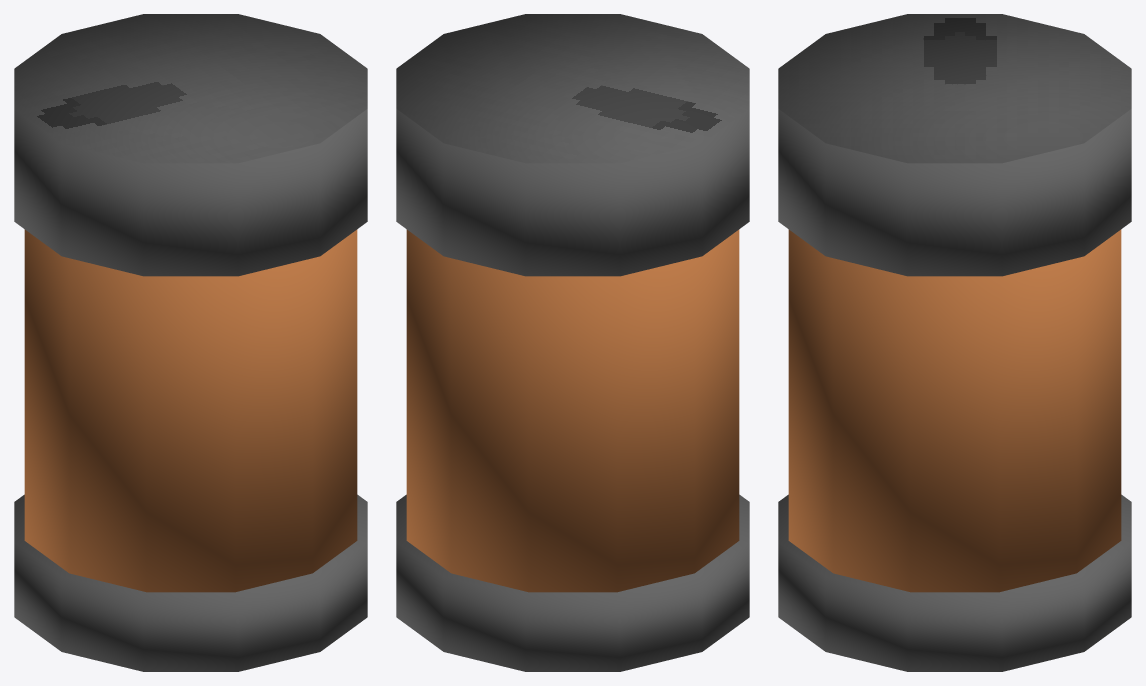
File: cola.gltf
3 renders of one model, left to right at view 1: azimuth 30°, elevation 25°; view 2: azimuth 150°, elevation 25°; view 3: azimuth 270°, elevation 25°, orthographic.
Parts seen in each view (by area): view 1: cylinder (×3); view 2: cylinder (×3); view 3: cylinder (×3).
Boxes of the visible parts, x1=… form: cylinder (×3): x1=14, y1=14, x2=367, y2=671; cylinder (×3): x1=396, y1=14, x2=749, y2=671; cylinder (×3): x1=778, y1=14, x2=1131, y2=671.
Size of the model in its own units: 0.5312 by 0.8438 by 0.5312.
1 material, 1 textured.
